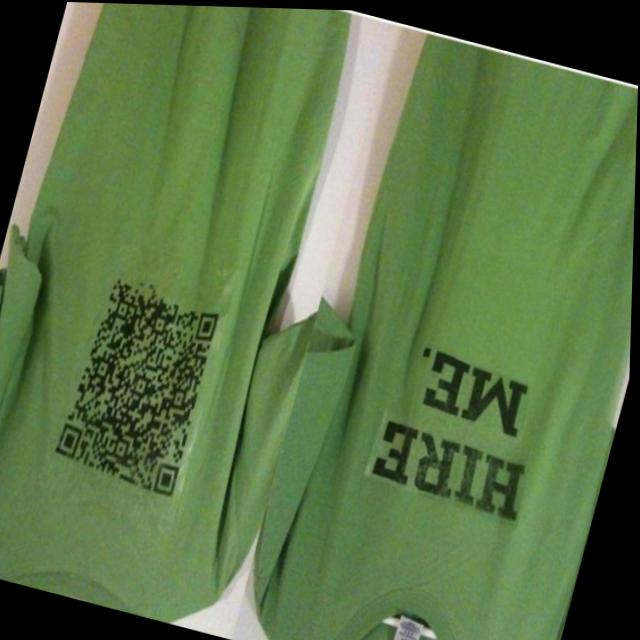qrcode: (54, 274, 223, 496)
